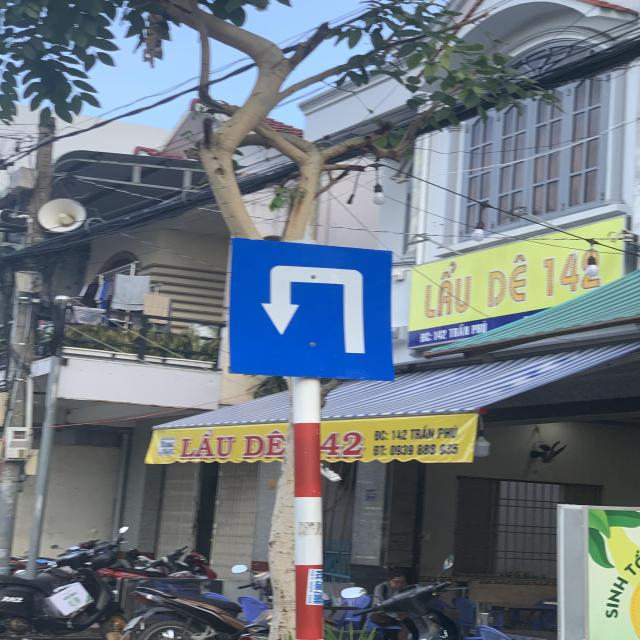Den_Giao_Thong: (230, 238, 392, 379)
